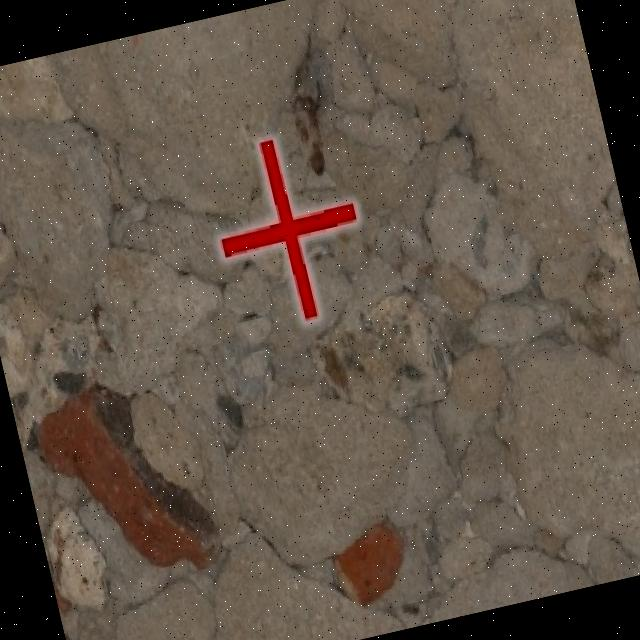x_marker: (198, 123, 376, 334)
